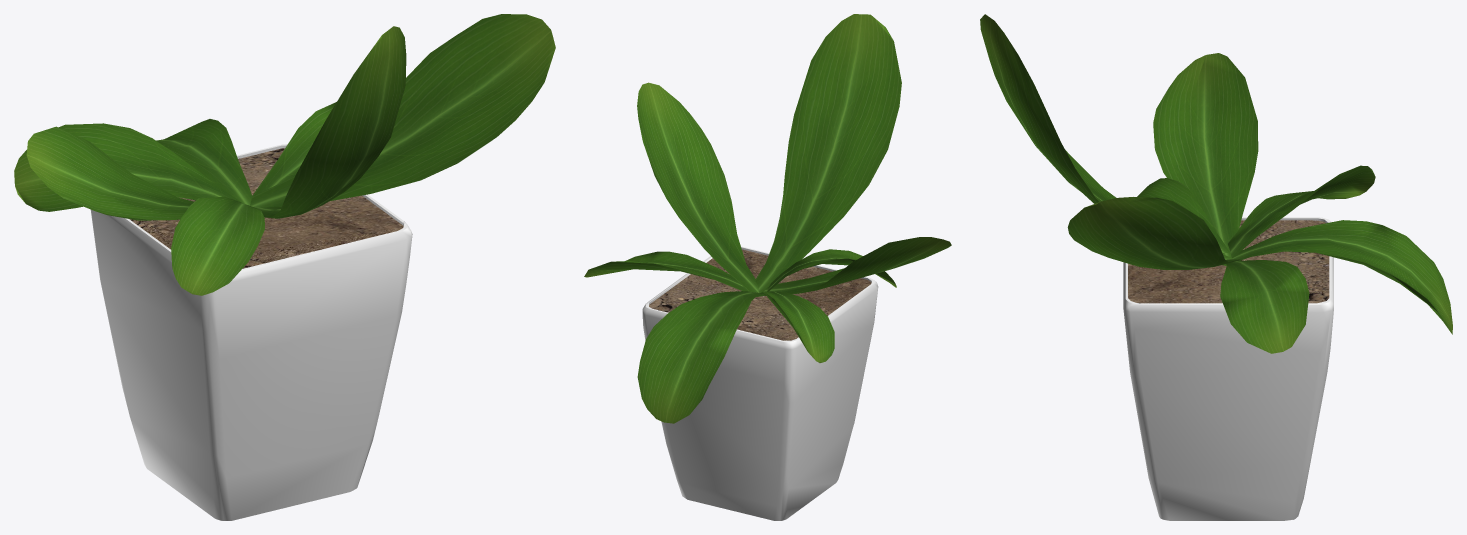
Rendered from Plant 2.FBX.
3 renders of one model, left to right at view 1: azimuth 30°, elevation 25°; view 2: azimuth 150°, elevation 25°; view 3: azimuth 270°, elevation 25°, orthographic. The views are drawn at different scales.
Visible parts, largest first — view 1: plant 2; view 2: plant 2; view 3: plant 2.
Part boxes in pixels (x1=…): plant 2: x1=14, y1=14, x2=555, y2=520; plant 2: x1=584, y1=14, x2=951, y2=520; plant 2: x1=980, y1=14, x2=1452, y2=520.
Bounding box in the file's own units: 29.73 × 33.44 × 30.21.
Materials: 2 (2 with a texture image).
